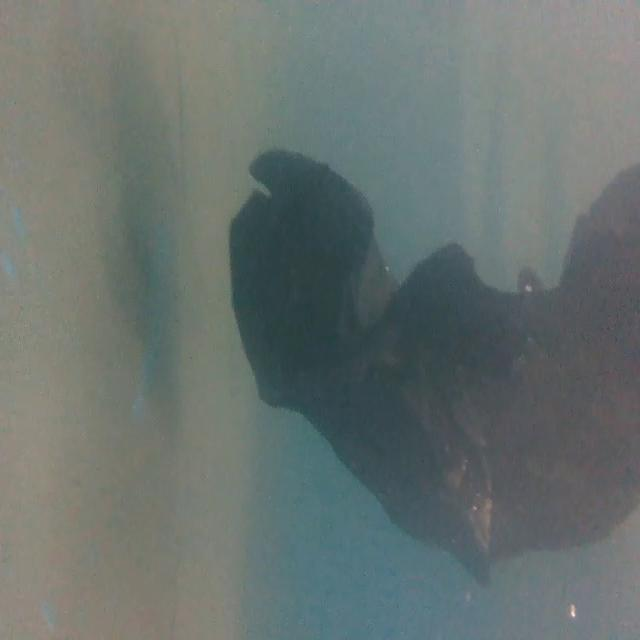plastic bags: (221, 149, 640, 592)
